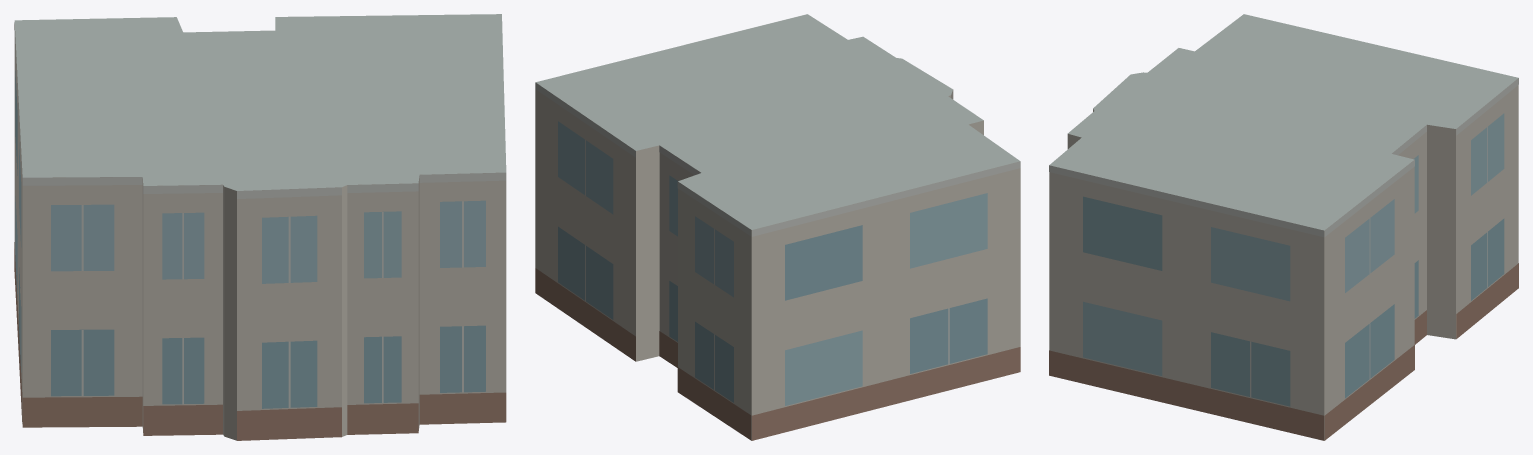
File: survey-upis-32623669.glb
3 renders of one model, left to right at view 1: azimuth 30°, elevation 25°; view 2: azimuth 150°, elevation 25°; view 3: azimuth 270°, elevation 25°, orthographic. The views are drawn at different scales.
Parts seen in each view (by area): view 1: survey-upis-32623669.tmp; view 2: survey-upis-32623669.tmp; view 3: survey-upis-32623669.tmp.
Boxes of the visible parts, x1,y1,x2,y2 form: survey-upis-32623669.tmp: [14, 14, 506, 440]; survey-upis-32623669.tmp: [535, 14, 1020, 440]; survey-upis-32623669.tmp: [1049, 14, 1518, 440].
Size of the model in its own units: 16.57 by 7.5 by 15.19.
